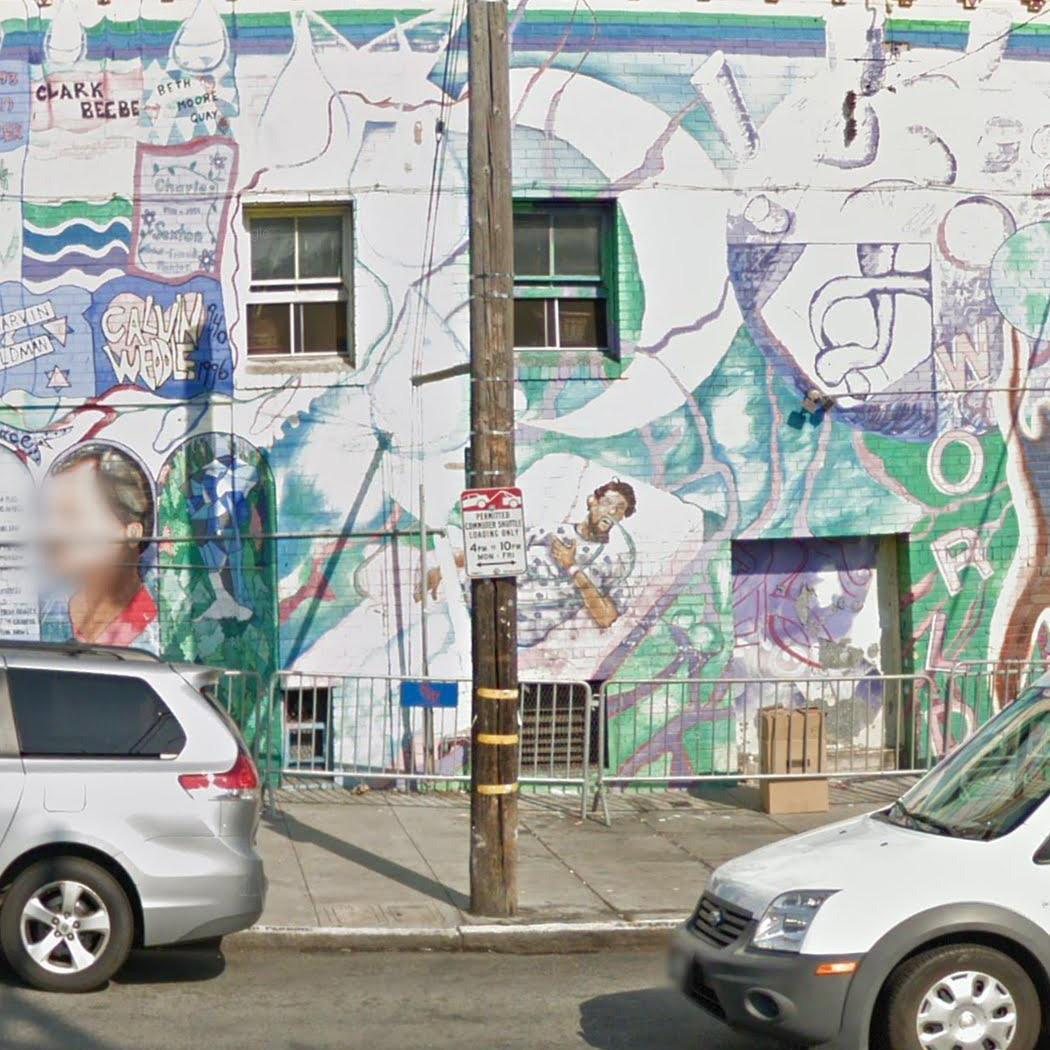No Parking: (458, 484, 531, 579)
